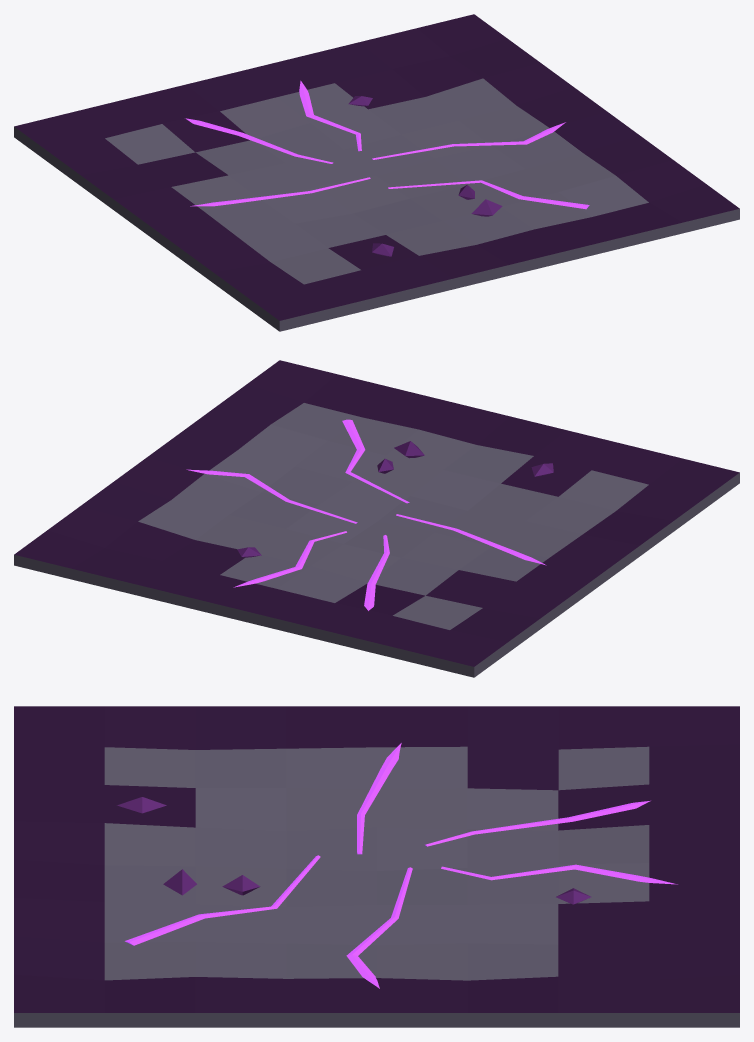
File: path_corrupted.glb
3 views of the same model, one above another, from view 1: azimuth 30°, elevation 25°; view 2: azimuth 150°, elevation 25°; view 3: azimuth 270°, elevation 25° (orthographic). The views are drawn at different scales.
Parts seen in each view (by area): view 1: path_corrupted.001; view 2: path_corrupted.001; view 3: path_corrupted.001.
Boxes of the visible parts, x1,y1,x2,y2 form: path_corrupted.001: (14, 14, 739, 331); path_corrupted.001: (14, 360, 739, 677); path_corrupted.001: (14, 706, 739, 1027).
Bounding box in the file's own units: 2 × 0.0923 × 2.
